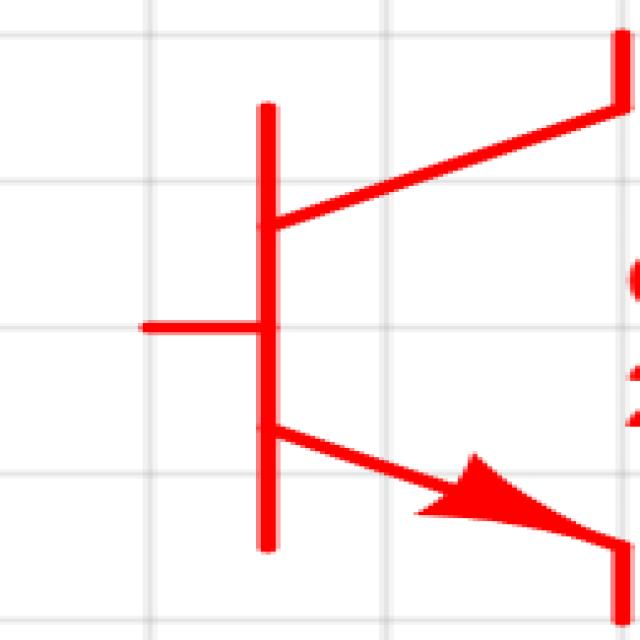bjt: (118, 16, 640, 629)
